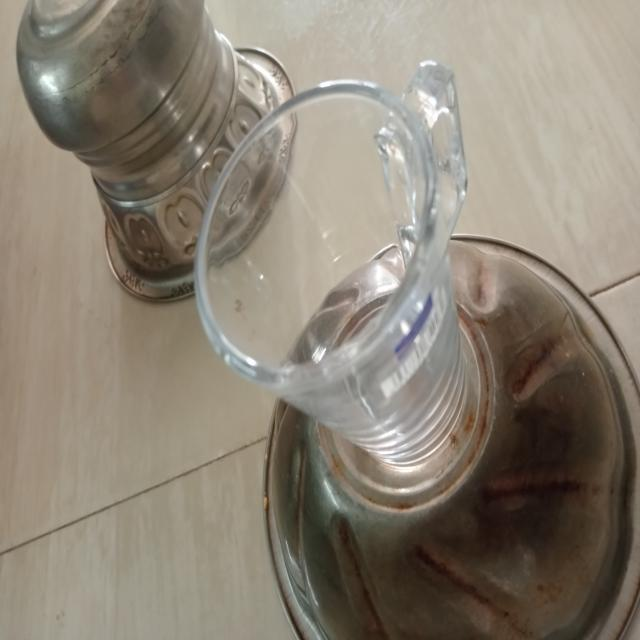glass-VX4N: (193, 63, 469, 459)
